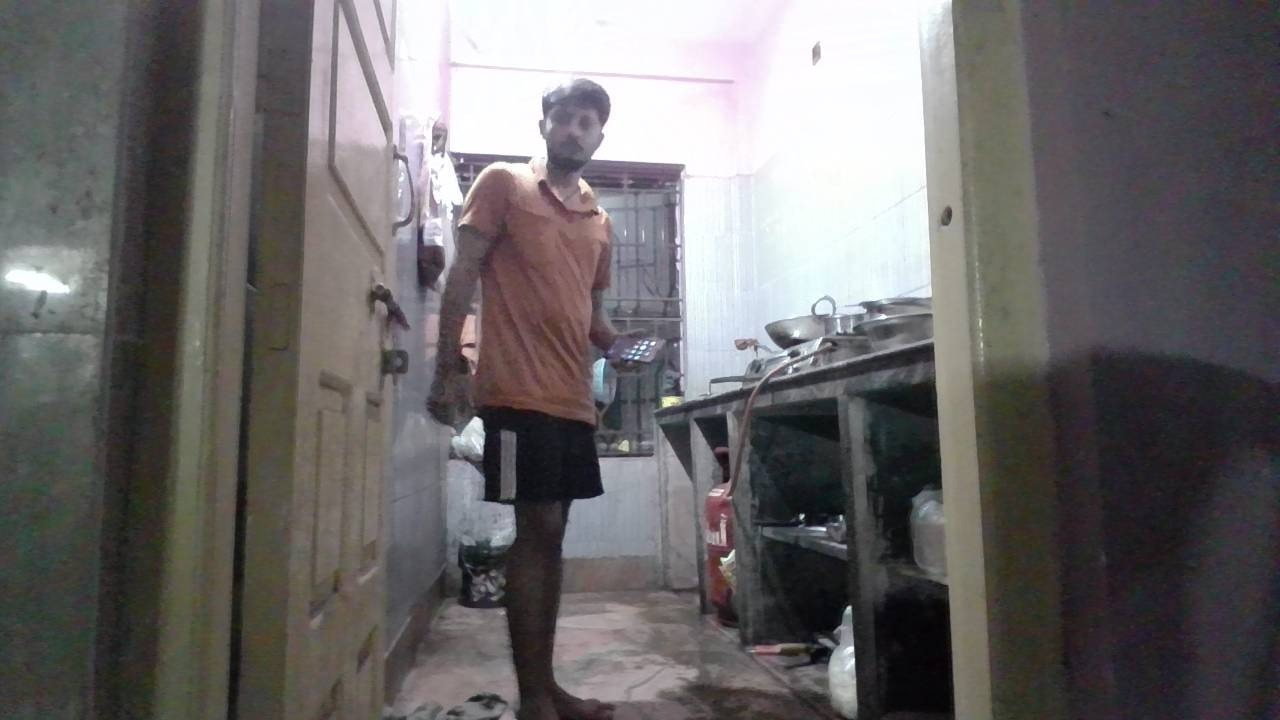red_box: (490, 382, 572, 415)
